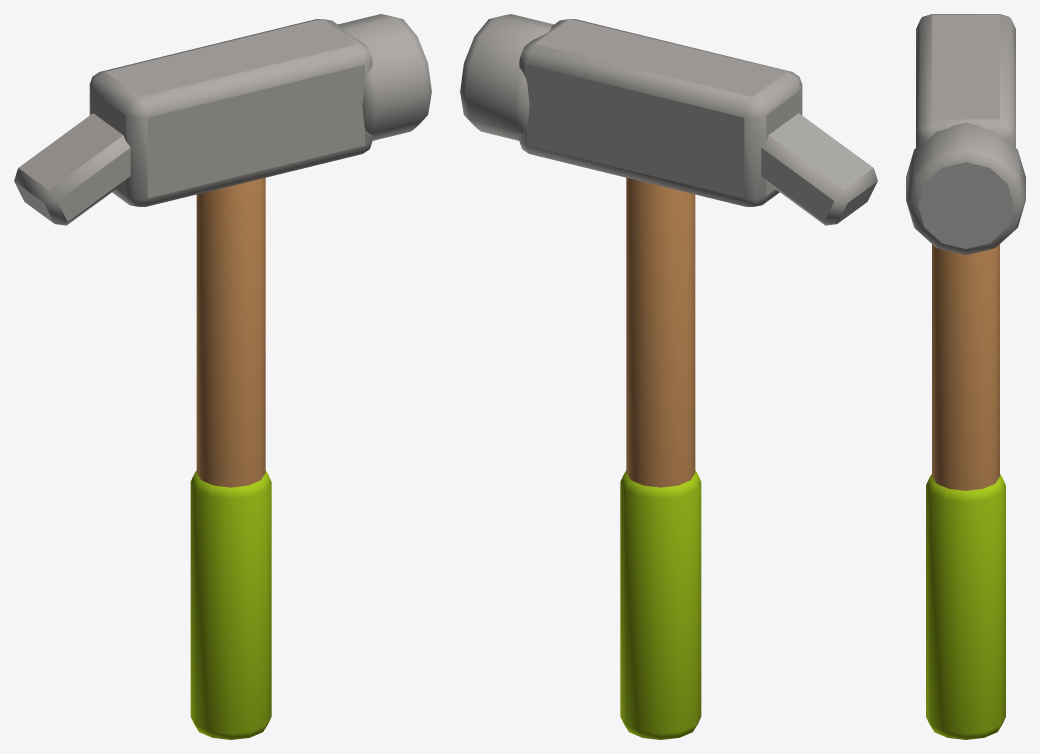
File: hammer.glb
3 views of the same model, side by side, from view 1: azimuth 30°, elevation 25°; view 2: azimuth 150°, elevation 25°; view 3: azimuth 270°, elevation 25° (orthographic).
Visible parts, largest first — view 1: hammer; view 2: hammer; view 3: hammer.
Part boxes in pixels (left/top/right/bottom): hammer: left=14, top=14, right=431, bottom=739; hammer: left=460, top=14, right=877, bottom=739; hammer: left=906, top=14, right=1025, bottom=739.
Size of the model in its own units: 0.2151 by 0.365 by 0.06.
